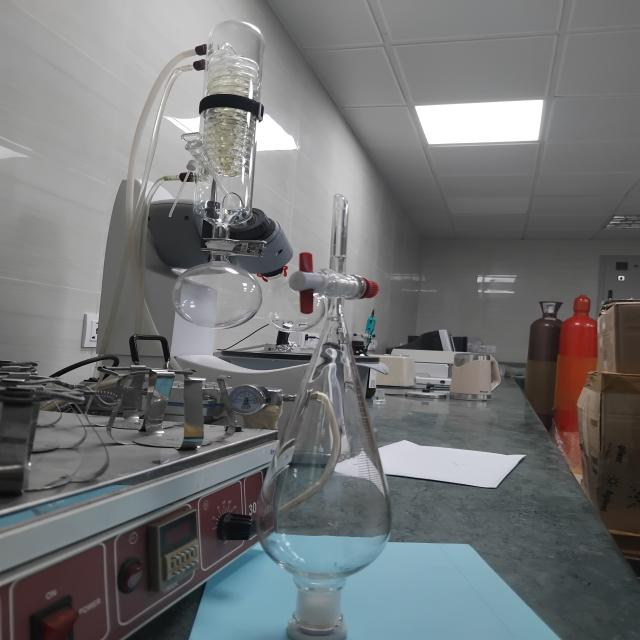Separating_Funnel: (250, 170, 435, 640)
